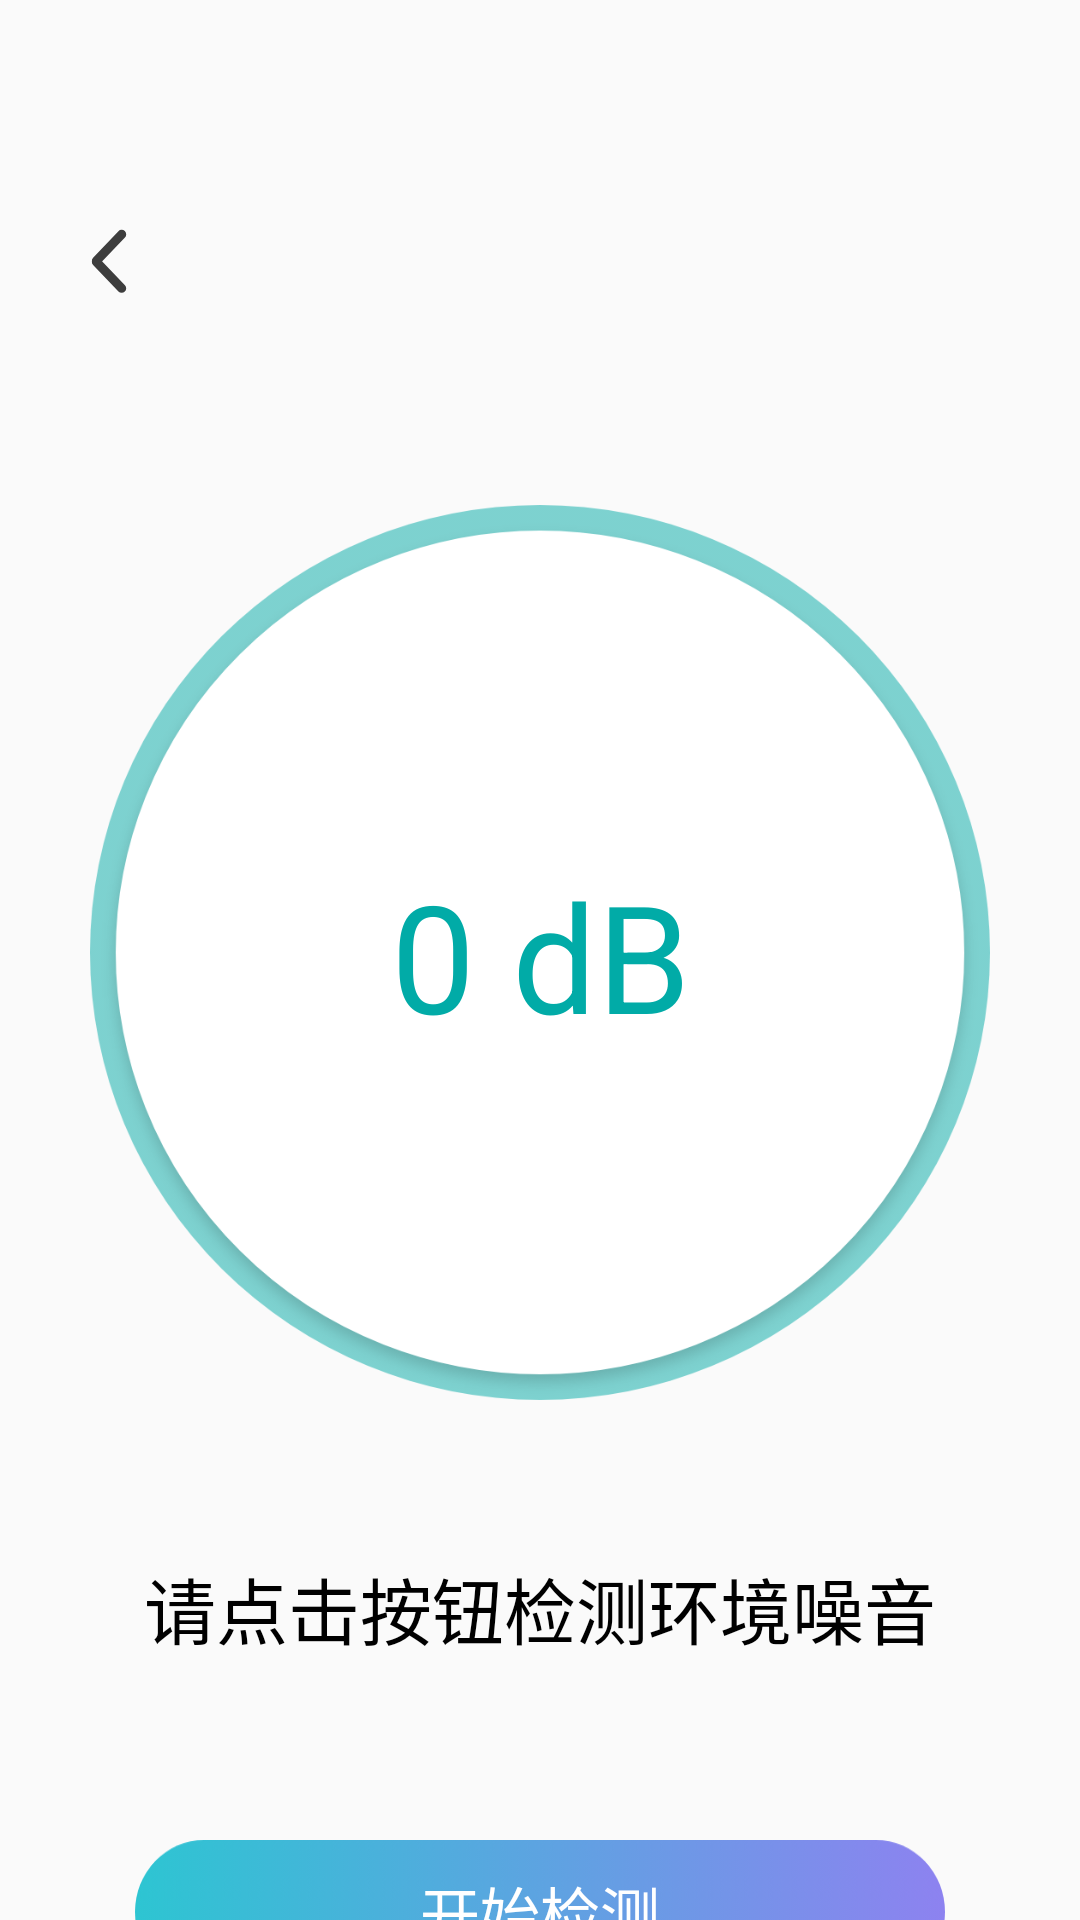

Locate icon controls on the screen. Image size 1080px x 1920px, boxes as (x1,y1,x2,y2).
back: (92,229,127,293)
